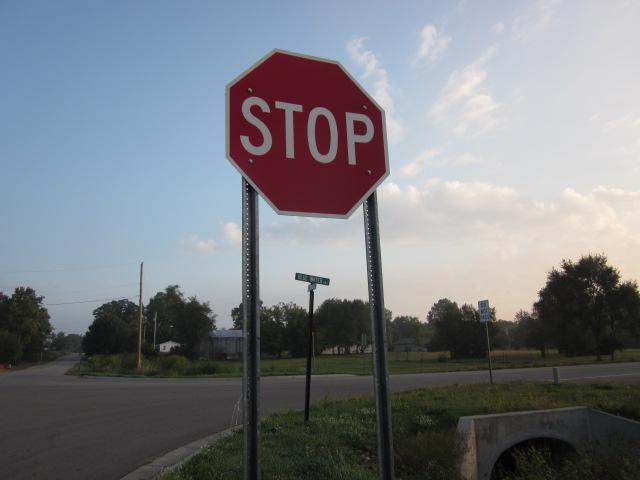stop: (227, 47, 393, 219)
